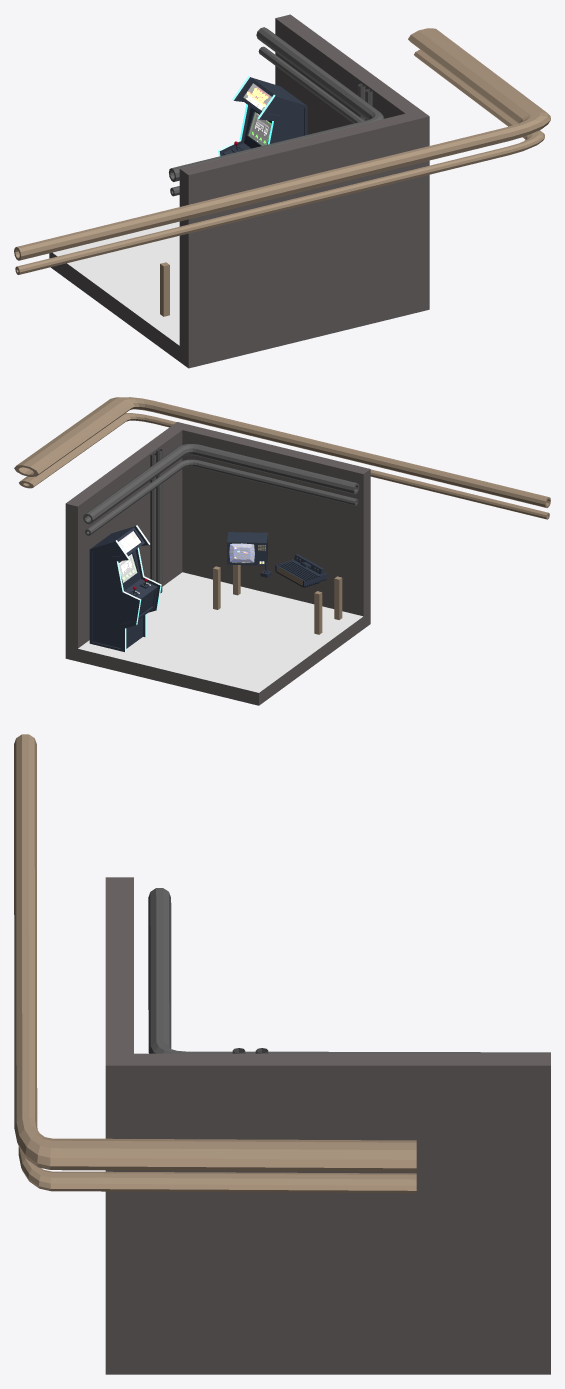
File: arcarderoom.glb
3 renders of one model, top to bottom at view 1: azimuth 30°, elevation 25°; view 2: azimuth 150°, elevation 25°; view 3: azimuth 270°, elevation 25°, orthographic. The views are drawn at different scales.
Visible parts, largest first — view 1: Room, Plane.009, Pipe, Arcade, Plane.010; view 2: Room, Plane.009, Arcade, Pipe, Plane.001, Plane.011, Plane.010, Plane.015; view 3: Room, Plane.009, Pipe.
Boxes of the visible parts, <box> form: Room: <box>49,14,429,368</box>; Plane.009: <box>14,28,550,274</box>; Pipe: <box>169,27,384,196</box>; Arcade: <box>218,76,307,156</box>; Plane.010: <box>160,262,169,316</box>; Room: <box>65,422,370,705</box>; Plane.009: <box>14,397,550,519</box>; Arcade: <box>89,525,161,651</box>; Pipe: <box>83,444,359,535</box>; Plane.001: <box>150,448,162,593</box>; Plane.011: <box>227,532,267,565</box>; Plane.010: <box>213,565,342,634</box>; Plane.015: <box>275,554,326,587</box>; Room: <box>105,877,550,1374</box>; Plane.009: <box>14,734,416,1193</box>; Pipe: <box>148,888,550,1053</box>.
Size of the model in its own units: 19.26 by 6.54 by 10.3.
